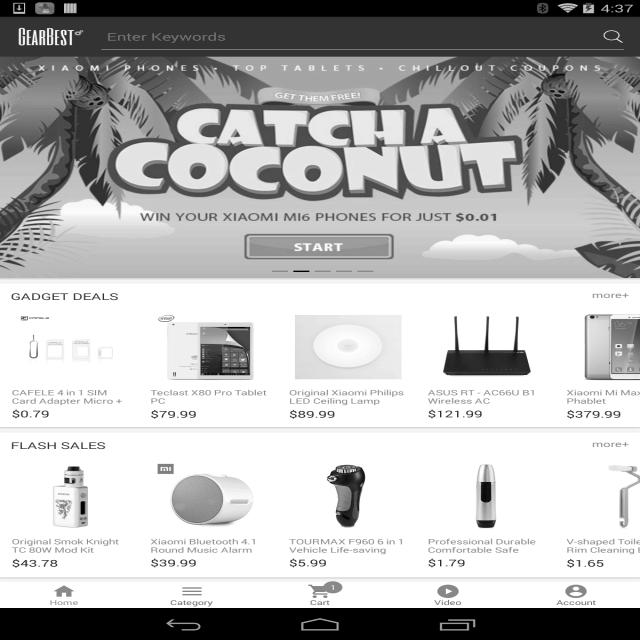EditText: (101, 23, 624, 50)
ImageView: (0, 56, 640, 278), (150, 314, 269, 381), (289, 314, 408, 381), (150, 463, 269, 530), (289, 463, 408, 530), (12, 314, 130, 381), (428, 314, 546, 381), (12, 463, 130, 530), (428, 463, 546, 530), (566, 314, 640, 381), (566, 463, 640, 530), (16, 21, 85, 52), (51, 584, 77, 600), (179, 584, 205, 600), (307, 584, 333, 600), (435, 584, 461, 600), (563, 584, 589, 600), (603, 30, 624, 43)
TextView: (11, 290, 592, 303), (11, 439, 592, 452), (150, 387, 269, 406), (289, 387, 408, 406), (12, 536, 130, 555), (150, 536, 269, 554), (289, 536, 408, 554), (12, 388, 130, 406), (428, 388, 546, 406), (428, 536, 546, 554), (150, 556, 269, 569), (289, 556, 408, 569), (428, 556, 546, 569), (12, 557, 130, 569), (566, 387, 640, 406), (566, 536, 640, 555), (566, 557, 640, 569), (428, 407, 482, 420), (566, 408, 622, 420), (150, 408, 197, 420), (289, 408, 336, 420), (12, 407, 49, 420), (592, 438, 629, 449), (170, 598, 213, 607), (592, 290, 629, 300), (556, 598, 596, 607), (50, 598, 78, 607), (434, 598, 461, 607), (323, 582, 342, 594), (310, 598, 330, 607)
